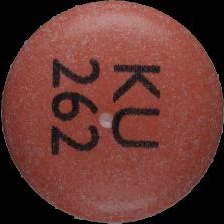69189-0443: (0, 0, 224, 224)
